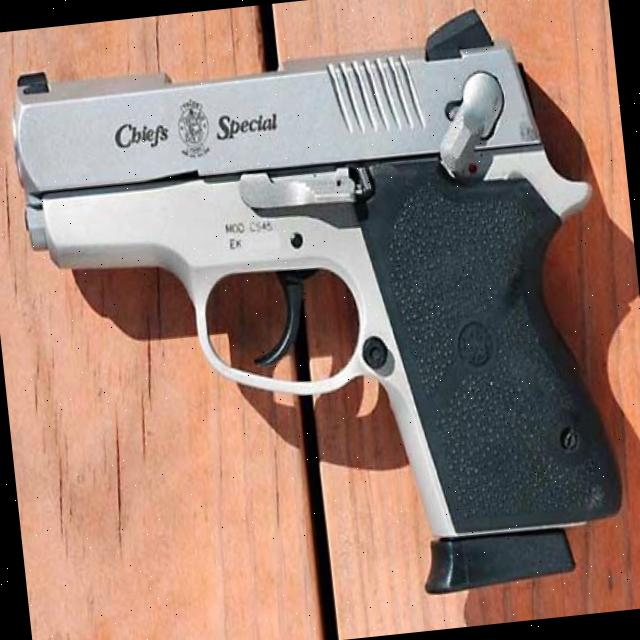Handgun: (5, 11, 640, 636)
